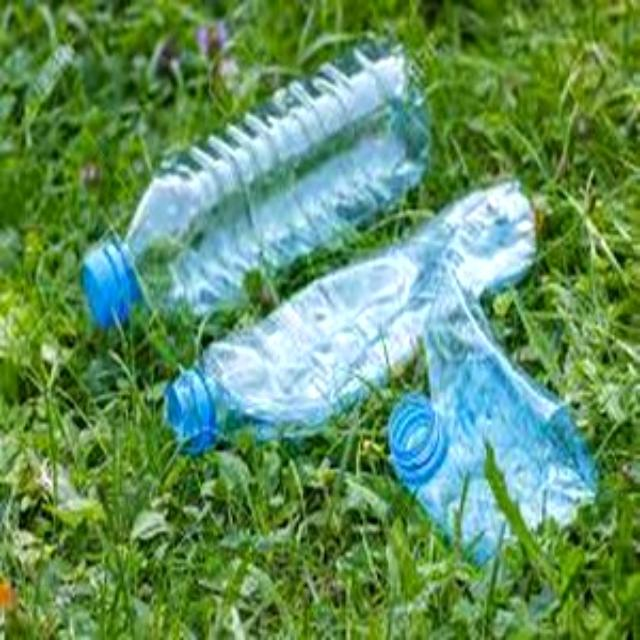Plastic: (168, 179, 542, 445), (81, 45, 433, 322), (390, 302, 590, 552)
